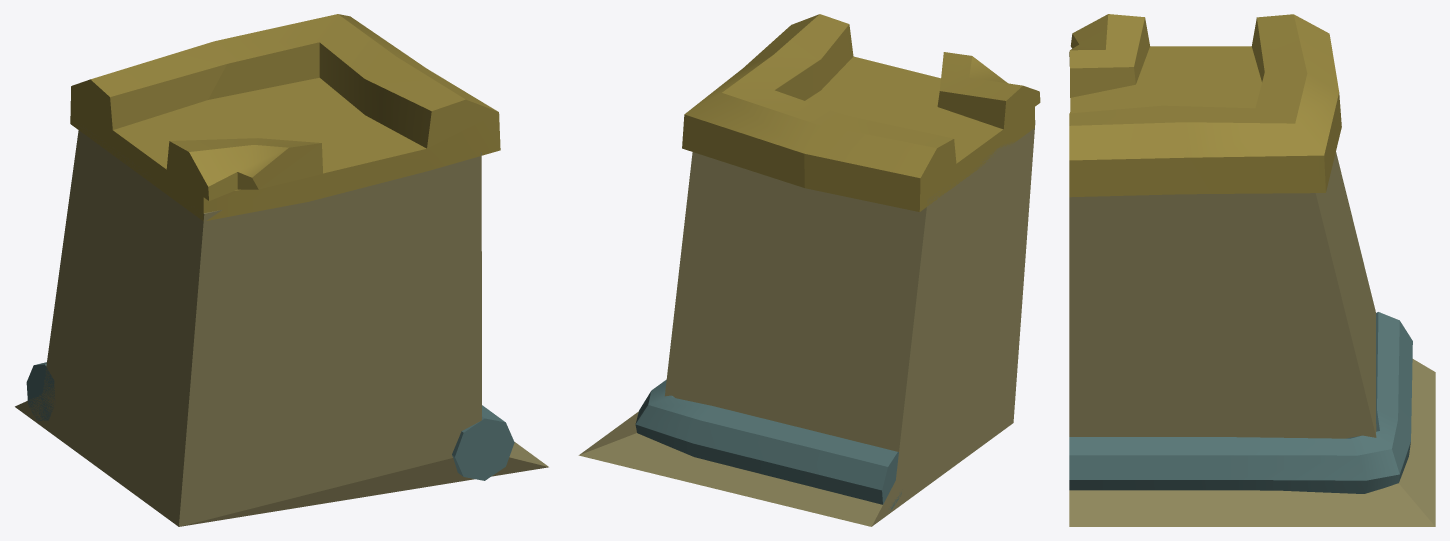
The model's file is Int_7_Corner_Rect_D_L.fbx.
The picture shows the model from 3 angles, left to right: view 1: azimuth 30°, elevation 25°; view 2: azimuth 150°, elevation 25°; view 3: azimuth 270°, elevation 25°; orthographic projection. The views are drawn at different scales.
Visible parts, largest first — view 1: Int_7_Corner_Rect_D_L; view 2: Int_7_Corner_Rect_D_L; view 3: Int_7_Corner_Rect_D_L.
Boxes of the visible parts, left/top/right/bottom form: Int_7_Corner_Rect_D_L: left=15, top=14, right=548, bottom=526; Int_7_Corner_Rect_D_L: left=578, top=14, right=1040, bottom=526; Int_7_Corner_Rect_D_L: left=1069, top=14, right=1435, bottom=526.
Bounding box in the file's own units: 1 × 1.09 × 1.
